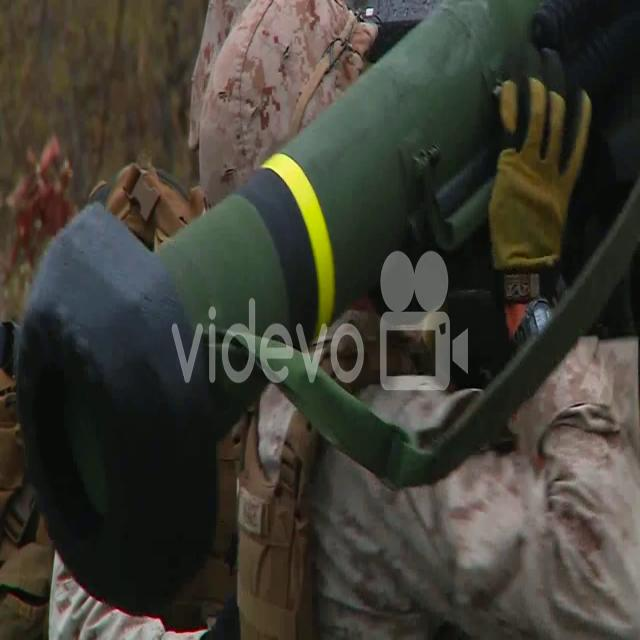bazooka: (15, 1, 607, 634)
